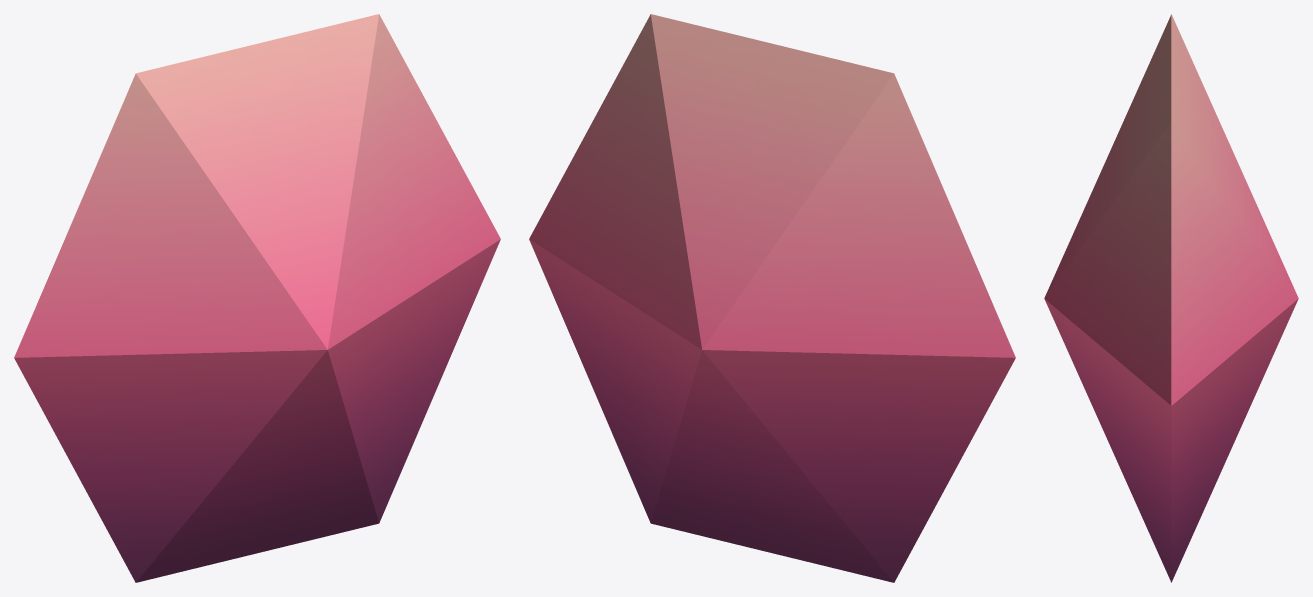
The model's file is gem10.fbx.
3 renders of one model, left to right at view 1: azimuth 30°, elevation 25°; view 2: azimuth 150°, elevation 25°; view 3: azimuth 270°, elevation 25°, orthographic. The views are drawn at different scales.
Parts seen in each view (by area): view 1: Gem10; view 2: Gem10; view 3: Gem10.
Part boxes in pixels (<box>): Gem10: <box>14,14,500,582</box>; Gem10: <box>529,14,1015,582</box>; Gem10: <box>1044,14,1298,582</box>.
Bounding box in the file's own units: 1 × 1 × 0.5.
